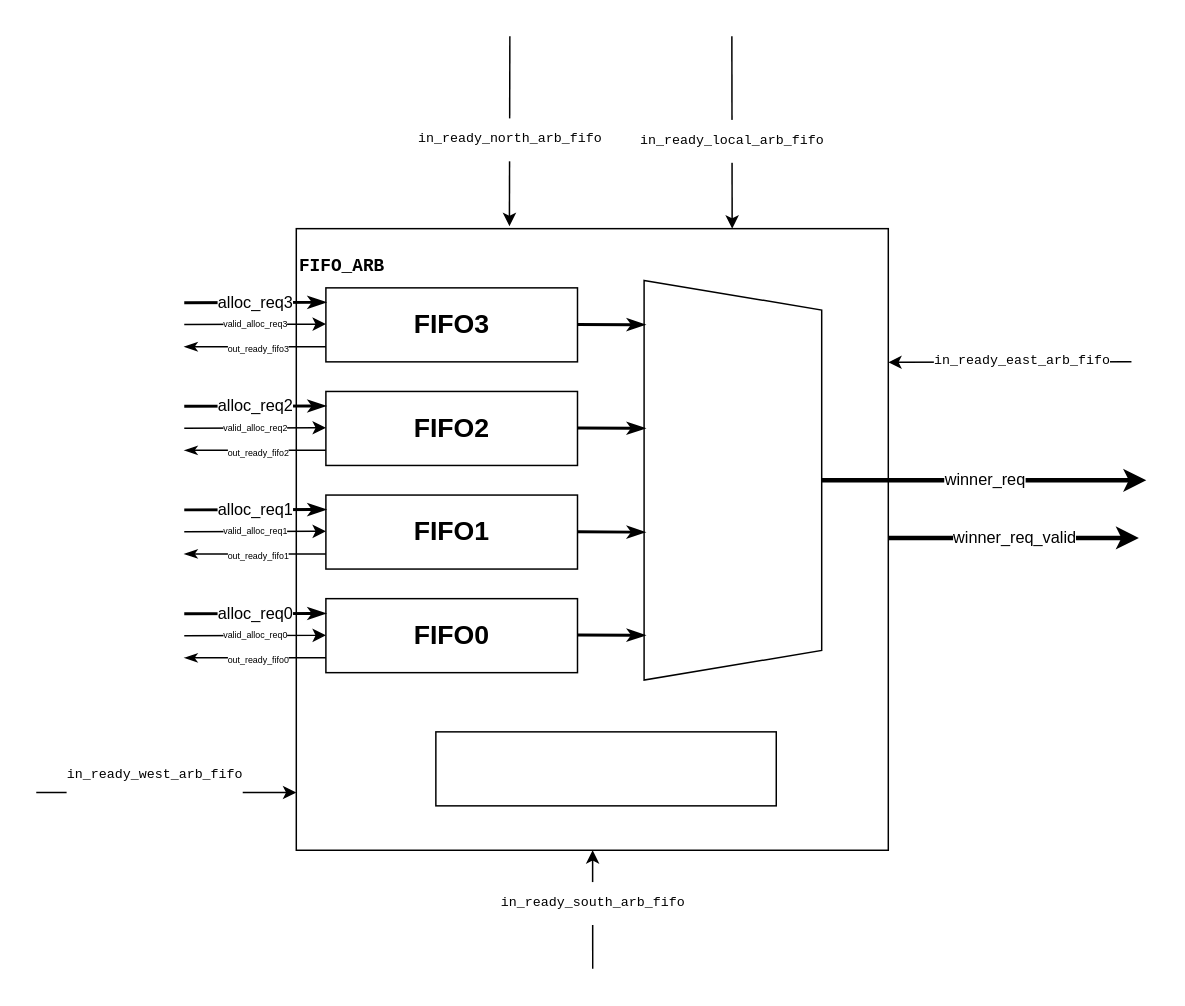
This 1185x1006 diagram has some shape labels left out. Here are the shapes that lost their labels. From the top down, the centre of each, then its label:
At (x=732, y=479): "Arbiter".
At (x=605, y=768): "winner_dec_id".
